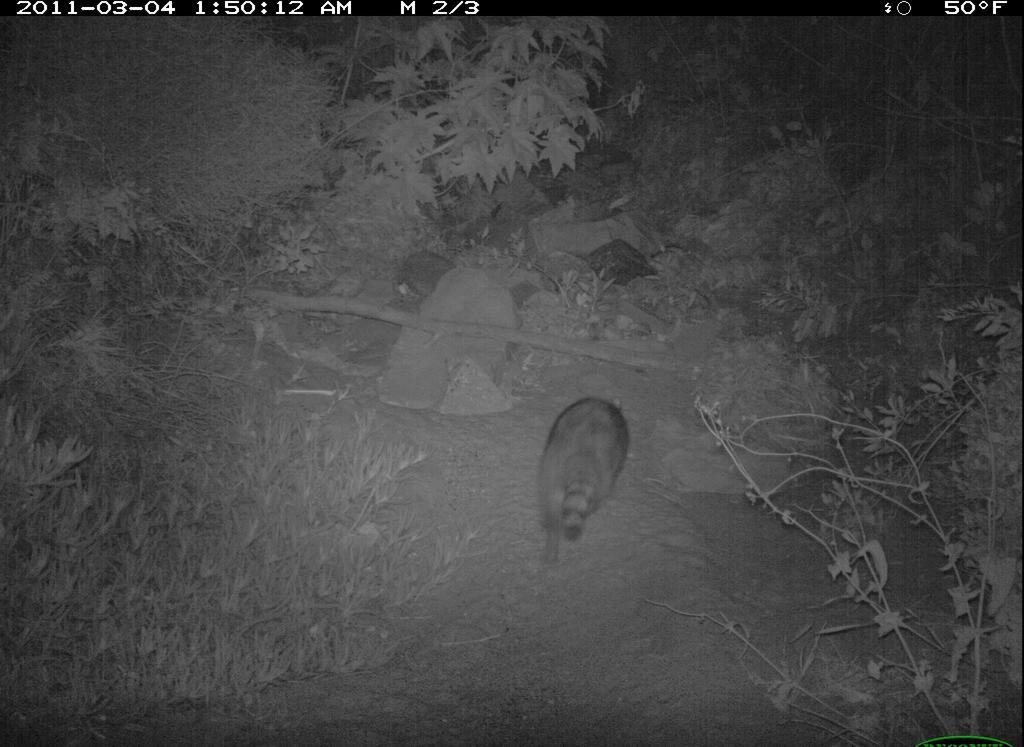raccoon: (529, 388, 635, 573)
